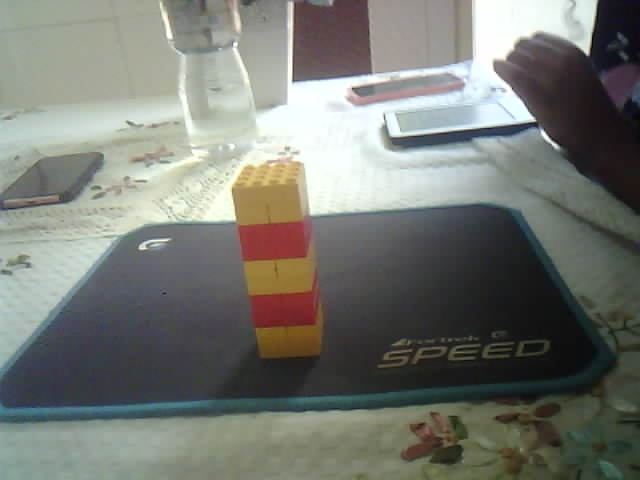lego: (229, 160, 324, 361)
